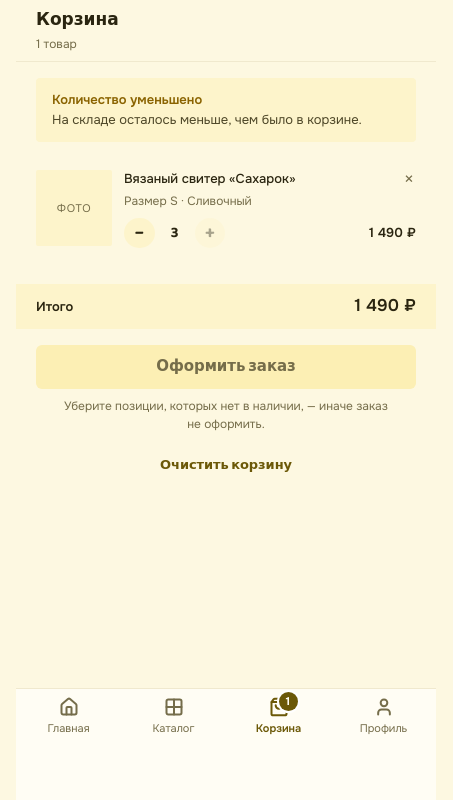
Scenario: CartScreen — предупреждение о подрезке › исчезает вместе со строкой, к которой относилось
This screenshot has width=453, height=800.
Check: the text "Количество уменьшено" is shown, box [52,90,202,108]
Click the button named "Удалить" at (409, 179), box [402,170,416,188]
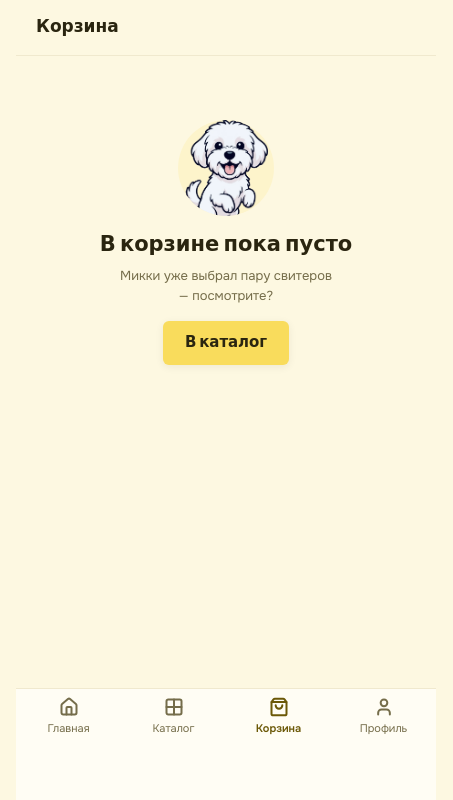
Check: the text "Количество уменьшено" is gone
